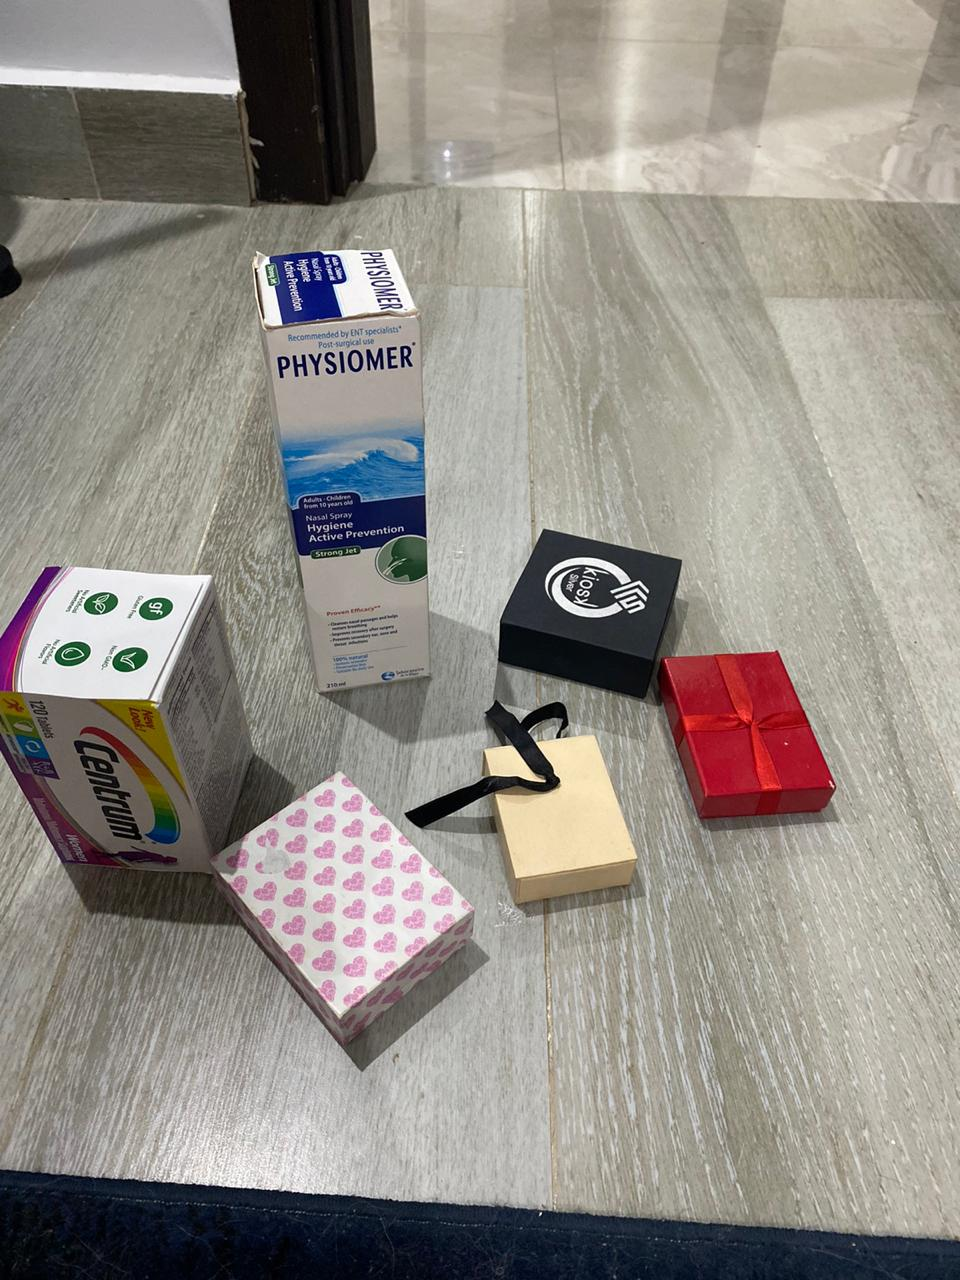Black Box: (660, 653, 846, 819)
Centrum: (1, 541, 254, 879)
Physiomer: (250, 249, 443, 693)
Pink Box: (212, 772, 475, 1048)
Red Box: (501, 527, 686, 698)
Yellow Box: (480, 734, 649, 901)
